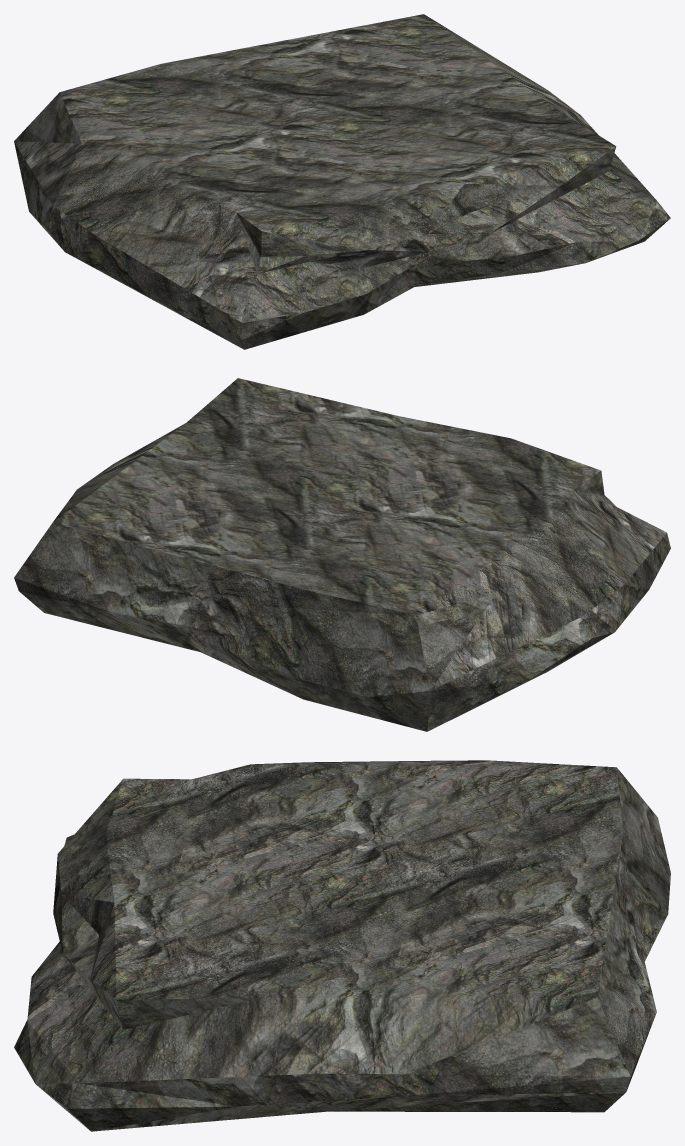
The model's file is JumpingStone_01.DAE.
3 views of the same model, one above another, from view 1: azimuth 30°, elevation 25°; view 2: azimuth 150°, elevation 25°; view 3: azimuth 270°, elevation 25° (orthographic). The views are drawn at different scales.
Visible parts, largest first — view 1: JumpingStoneONE300; view 2: JumpingStoneONE300; view 3: JumpingStoneONE300.
Boxes of the visible parts, x1,y1,x2,y2 form: JumpingStoneONE300: (14, 14, 670, 349); JumpingStoneONE300: (14, 378, 670, 731); JumpingStoneONE300: (14, 760, 670, 1131).
Size of what is drawn, in the model's own units: 3.44 by 3 by 0.6798.
